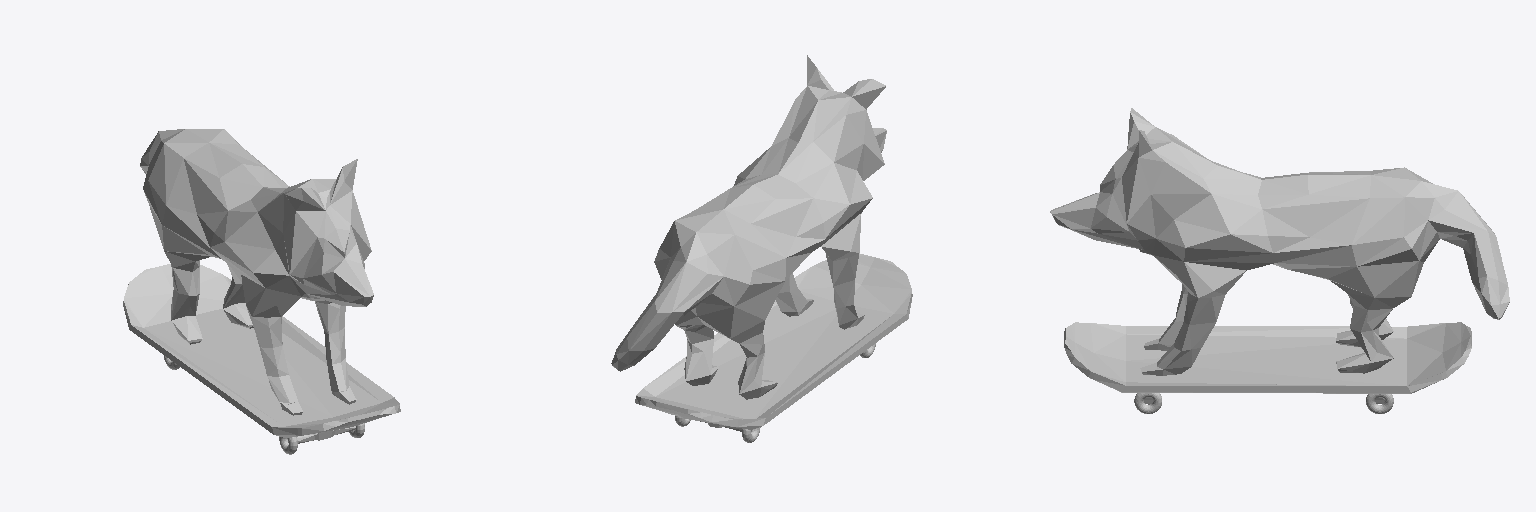
File: Fuchs07.obj
The picture shows the model from 3 angles: view 1: azimuth 30°, elevation 25°; view 2: azimuth 150°, elevation 25°; view 3: azimuth 270°, elevation 25°; orthographic projection.
Bounding box in the file's own units: 3.58 × 7.89 × 11.62.